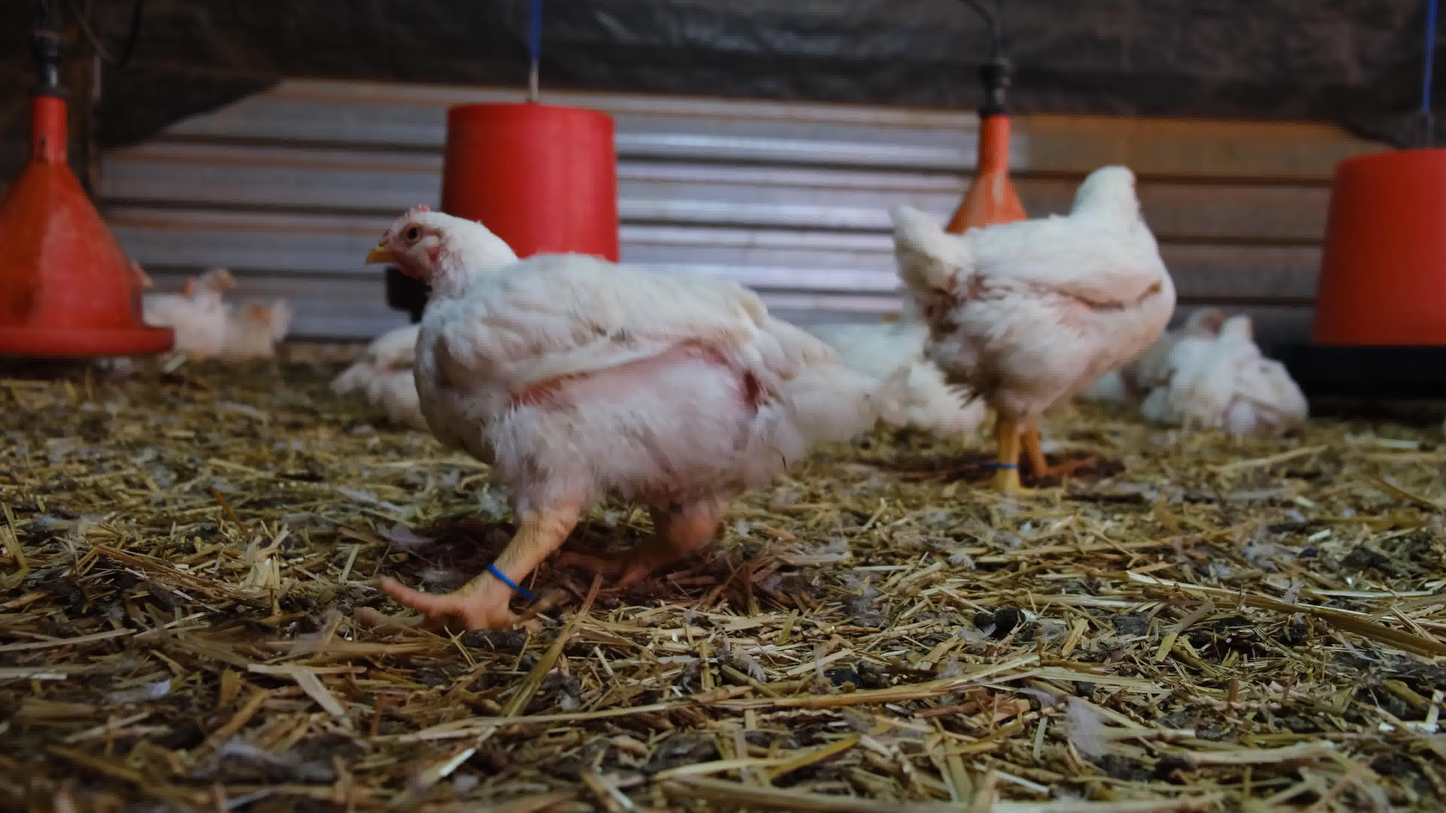AbNormal: (1168, 309, 1313, 429), (868, 325, 997, 443), (1096, 300, 1232, 404), (330, 318, 436, 437)
Normal: (366, 204, 858, 640), (887, 162, 1179, 499), (179, 270, 294, 369), (131, 266, 239, 368), (125, 253, 161, 292)
